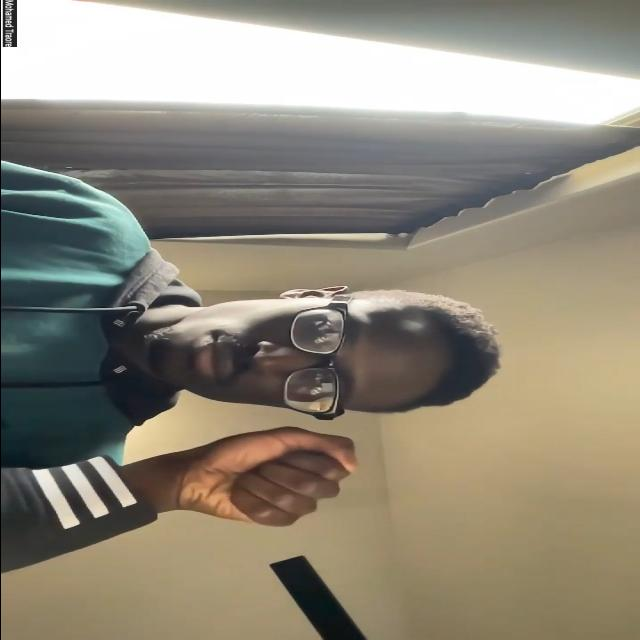Rock: (173, 426, 358, 528)
